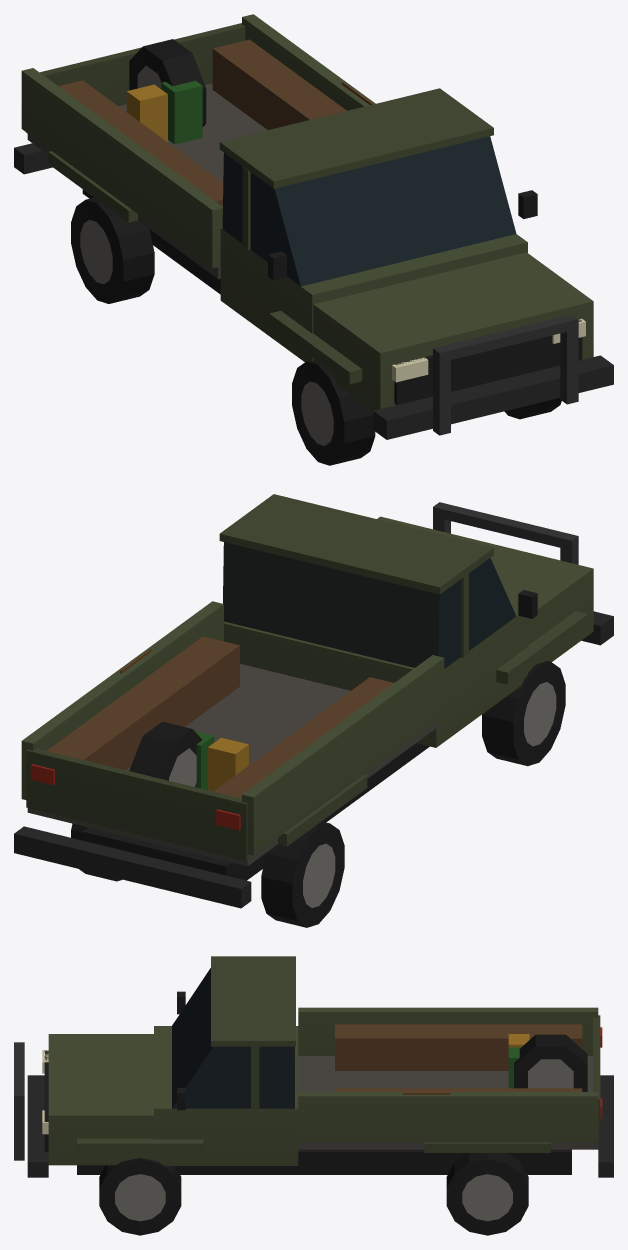
File: ub_btruck.glb
The picture shows the model from 3 angles, top to bottom: view 1: azimuth 30°, elevation 25°; view 2: azimuth 150°, elevation 25°; view 3: azimuth 270°, elevation 25°; orthographic projection. The views are drawn at different scales.
Visible parts, largest first — view 1: ub_btruck; view 2: ub_btruck; view 3: ub_btruck.
Boxes of the visible parts, x1,y1,x2,y2 form: ub_btruck: (14, 14, 613, 465); ub_btruck: (14, 494, 613, 927); ub_btruck: (14, 956, 613, 1235).
Bounding box in the file's own units: 2.28 × 2.04 × 5.7.
